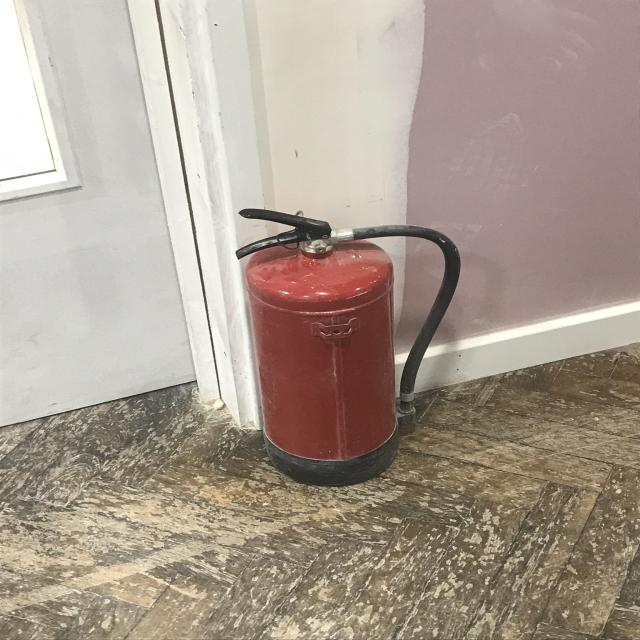fire_extinguisher: (226, 200, 463, 487)
